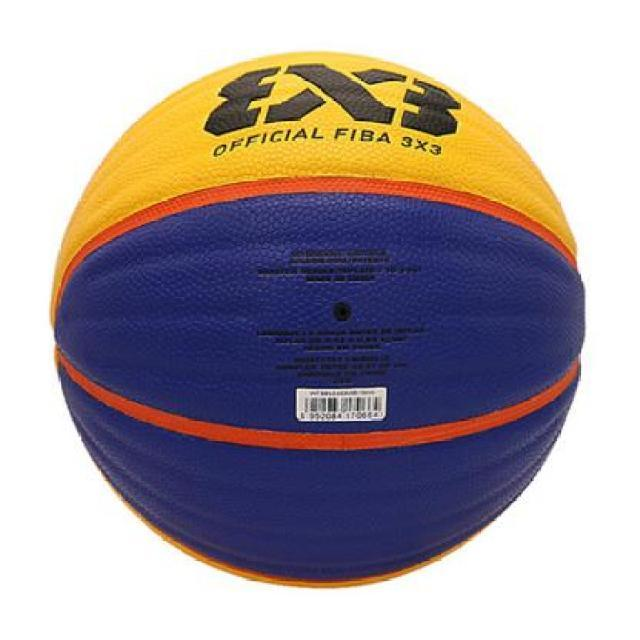basketball: (49, 50, 585, 590)
